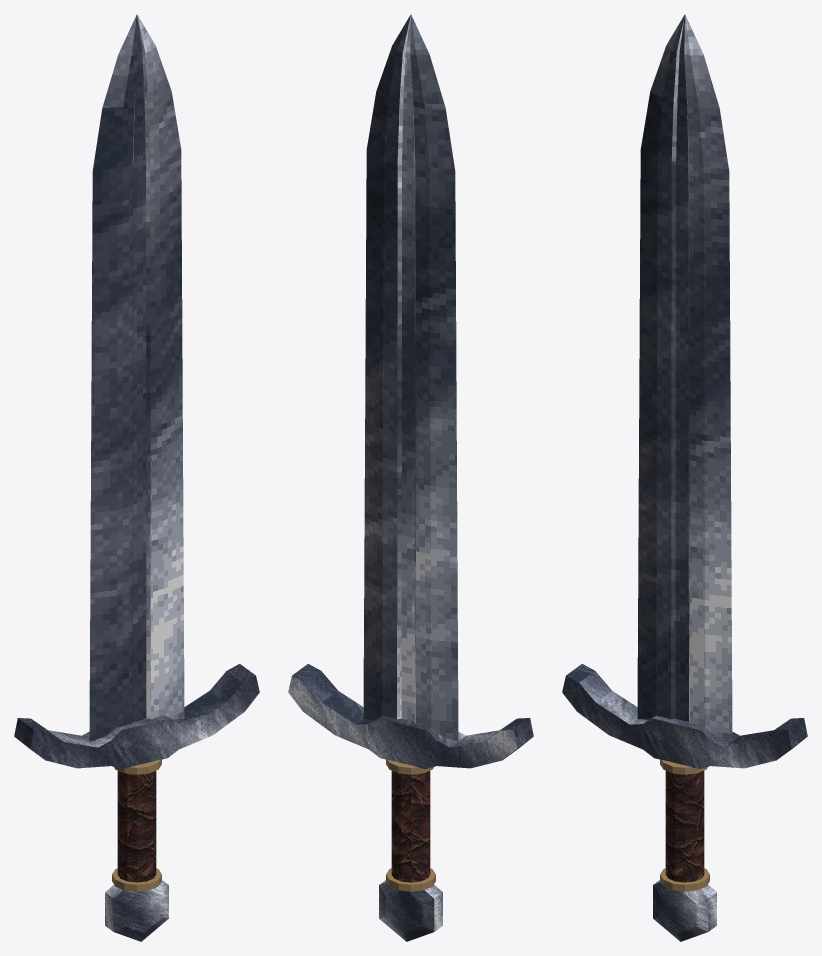
File: espada_larga.glb
3 views of the same model, side by side, from view 1: azimuth 30°, elevation 25°; view 2: azimuth 150°, elevation 25°; view 3: azimuth 330°, elevation 25° (orthographic).
Parts seen in each view (by area): view 1: Lâmina larga com canal central, Guarda curva reforçada, Empunhadura, Pomo hexagonal, Colar inferior; view 2: Lâmina larga com canal central, Guarda curva reforçada, Empunhadura, Pomo hexagonal, Colar inferior; view 3: Lâmina larga com canal central, Guarda curva reforçada, Empunhadura, Pomo hexagonal, Colar inferior.
Part boxes in pixels (bbox=[...]): Lâmina larga com canal central: bbox=[89, 14, 184, 741]; Guarda curva reforçada: bbox=[14, 664, 259, 769]; Empunhadura: bbox=[117, 771, 156, 882]; Pomo hexagonal: bbox=[105, 880, 168, 941]; Colar inferior: bbox=[112, 868, 161, 891]; Lâmina larga com canal central: bbox=[363, 14, 458, 741]; Guarda curva reforçada: bbox=[288, 664, 533, 769]; Empunhadura: bbox=[391, 771, 430, 882]; Pomo hexagonal: bbox=[379, 880, 442, 941]; Colar inferior: bbox=[386, 868, 435, 891]; Lâmina larga com canal central: bbox=[637, 14, 732, 741]; Guarda curva reforçada: bbox=[562, 664, 807, 769]; Empunhadura: bbox=[665, 771, 704, 882]; Pomo hexagonal: bbox=[653, 880, 716, 941]; Colar inferior: bbox=[660, 868, 709, 891].
Size of the model in its own units: 1.22 by 4.7 by 0.23.
4 materials, 3 textured.
